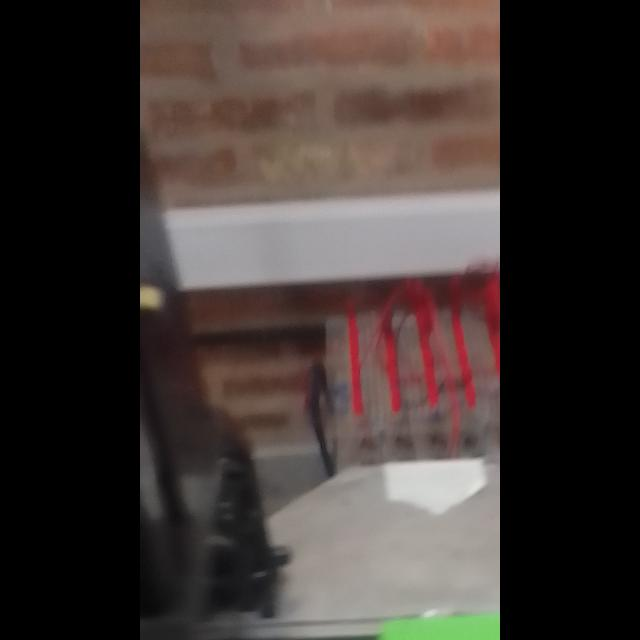greenBox: (354, 584, 500, 640)
